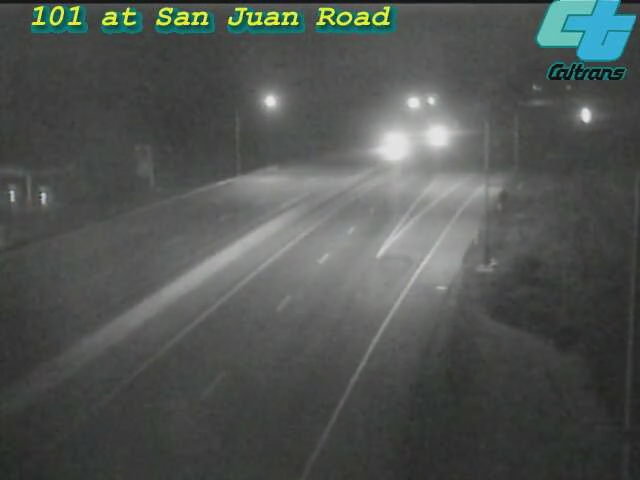vehicle: (373, 118, 423, 168), (414, 110, 464, 160), (561, 90, 611, 140)
